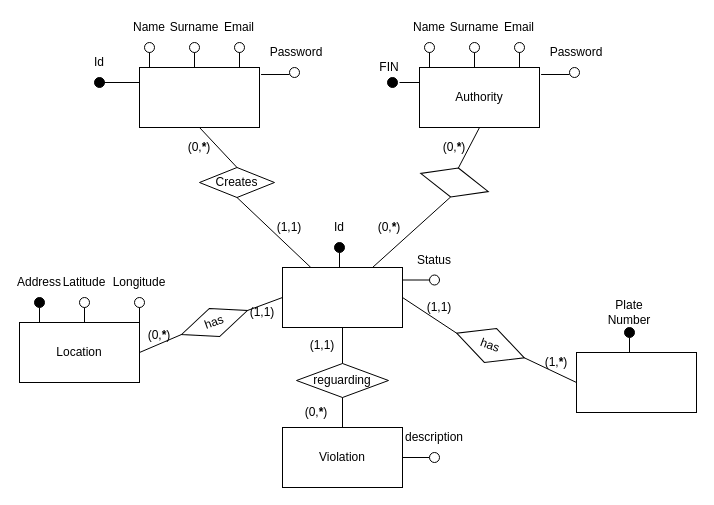
The diagram is 714 pixels wide and 505 high, and some of its shapes have lost their labels. Each missing label, with the box of its shape:
Car Plate: (576, 352, 696, 412)
Report: (282, 266, 402, 328)
see: (416, 158, 492, 206)
User: (138, 66, 260, 128)
